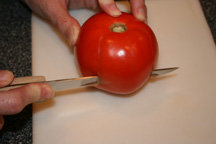tomato: (76, 11, 159, 94)
